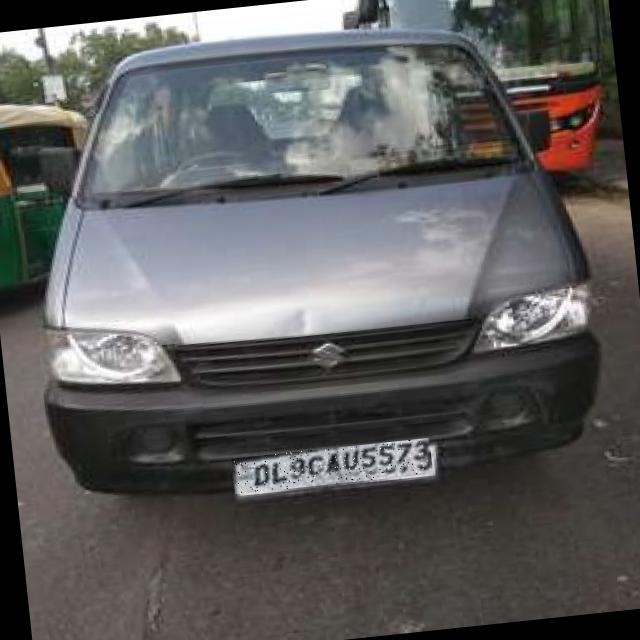Plate: (232, 438, 434, 495)
